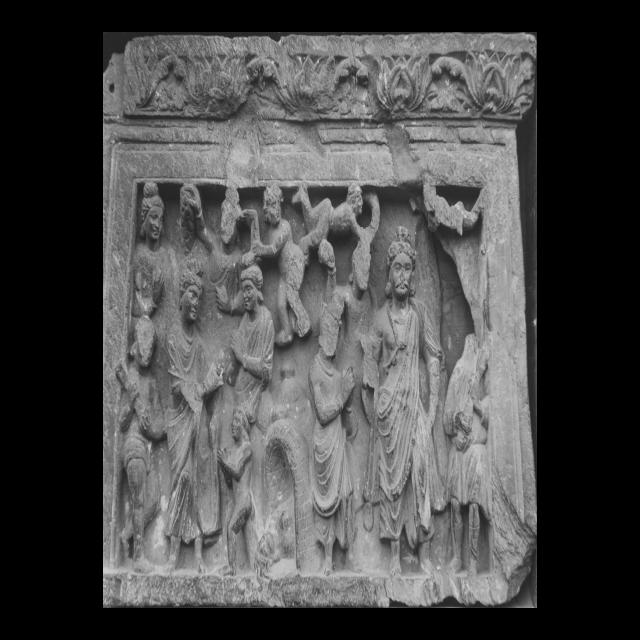buddha-standing: (364, 227, 444, 576), (164, 260, 222, 571)
